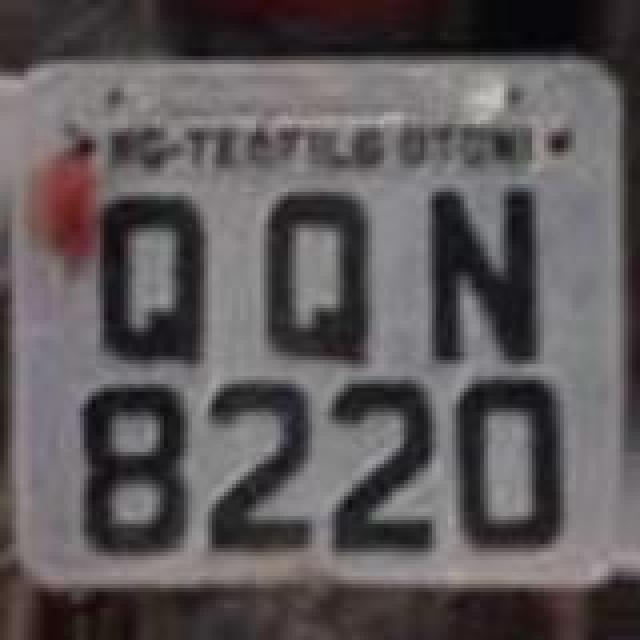2: (204, 382, 316, 562), (330, 382, 438, 562)
8: (82, 380, 190, 564)
N: (424, 182, 544, 362)
O: (454, 372, 570, 556)
Q: (260, 188, 380, 372), (94, 192, 210, 360)
